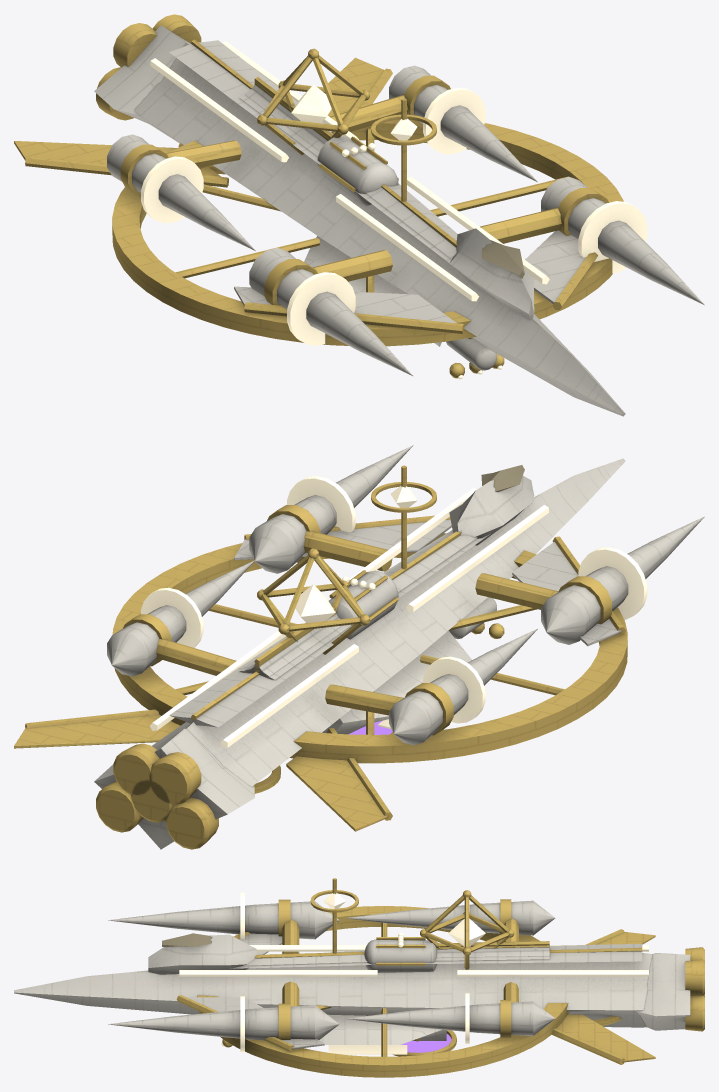
File: seraphine_capital.glb
The picture shows the model from 3 angles, top to bottom: view 1: azimuth 30°, elevation 25°; view 2: azimuth 150°, elevation 25°; view 3: azimuth 270°, elevation 25°; orthographic projection. The views are drawn at different scales.
Visible parts, largest first — view 1: HULL, SYS_WPN2, SYS_WPN1, SYS_WPN4, SYS_WPN3, SYS_DRIVE, SYS_BRIDGE, SYS_MSL, SYS_BUS_F, SYS_BUS_A, SYS_SENSORS, SYS_PD (+1 smaller); view 2: HULL, SYS_DRIVE, SYS_WPN2, SYS_WPN1, SYS_WPN4, SYS_WPN3, SYS_BRIDGE, SYS_BUS_F, SYS_BUS_A, SYS_HANGAR, SYS_MSL, SYS_SENSORS (+1 smaller); view 3: HULL, SYS_WPN1, SYS_WPN2, SYS_WPN3, SYS_DRIVE, SYS_WPN4, SYS_BRIDGE, SYS_HANGAR, SYS_MSL, SYS_BUS_F, SYS_BUS_A, SYS_SENSORS (+1 smaller).
Boxes of the visible parts, x1=… form: HULL: x1=14, y1=39, x2=625, y2=416; SYS_WPN2: x1=249, y1=248, x2=412, y2=375; SYS_WPN1: x1=480, y1=176, x2=704, y2=305; SYS_WPN4: x1=107, y1=134, x2=255, y2=250; SYS_WPN3: x1=330, y1=65, x2=537, y2=182; SYS_DRIVE: x1=94, y1=14, x2=201, y2=142; SYS_BRIDGE: x1=449, y1=228, x2=534, y2=319; SYS_MSL: x1=317, y1=136, x2=398, y2=205; SYS_BUS_F: x1=336, y1=176, x2=549, y2=301; SYS_BUS_A: x1=150, y1=41, x2=359, y2=162; SYS_SENSORS: x1=371, y1=98, x2=436, y2=201; SYS_PD: x1=446, y1=338, x2=504, y2=379; HULL: x1=14, y1=458, x2=627, y2=831; SYS_DRIVE: x1=94, y1=728, x2=254, y2=849; SYS_WPN2: x1=475, y1=516, x2=704, y2=644; SYS_WPN1: x1=249, y1=445, x2=413, y2=573; SYS_WPN4: x1=325, y1=628, x2=537, y2=745; SYS_WPN3: x1=107, y1=560, x2=255, y2=676; SYS_BRIDGE: x1=449, y1=465, x2=534, y2=545; SYS_BUS_F: x1=335, y1=487, x2=548, y2=612; SYS_BUS_A: x1=150, y1=630, x2=358, y2=748; SYS_HANGAR: x1=322, y1=631, x2=471, y2=734; SYS_MSL: x1=328, y1=570, x2=398, y2=639; SYS_SENSORS: x1=371, y1=465, x2=436, y2=568; HULL: x1=14, y1=890, x2=655, y2=1077; SYS_WPN1: x1=108, y1=981, x2=339, y2=1052; SYS_WPN2: x1=108, y1=892, x2=339, y2=953; SYS_WPN3: x1=345, y1=982, x2=555, y2=1044; SYS_DRIVE: x1=635, y1=947, x2=704, y2=1031; SYS_WPN4: x1=345, y1=899, x2=555, y2=941; SYS_BRIDGE: x1=148, y1=933, x2=256, y2=974; SYS_HANGAR: x1=319, y1=1014, x2=446, y2=1054; SYS_MSL: x1=364, y1=932, x2=436, y2=972; SYS_BUS_F: x1=179, y1=945, x2=377, y2=976; SYS_BUS_A: x1=457, y1=945, x2=648, y2=976; SYS_SENSORS: x1=310, y1=878, x2=358, y2=953.
Bounding box in the file's own units: 60.19 × 28.71 × 110.
Materials: 1 (1 with a texture image).
